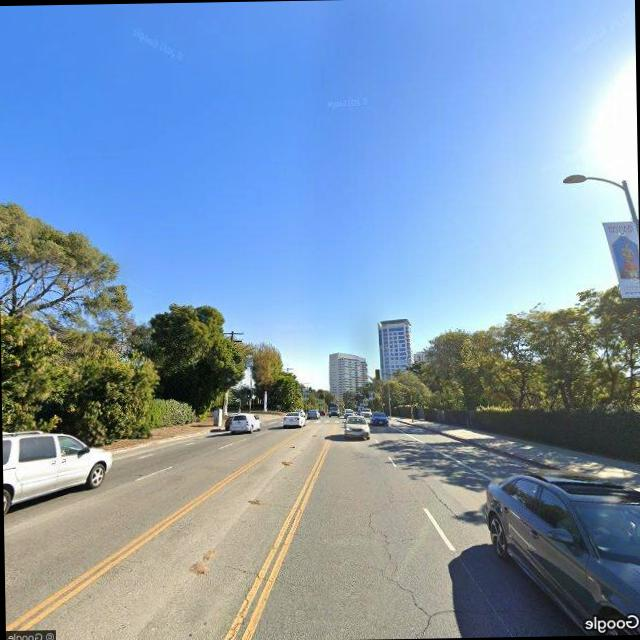crack: (360, 502, 464, 638)
pothole: (426, 481, 466, 522)
